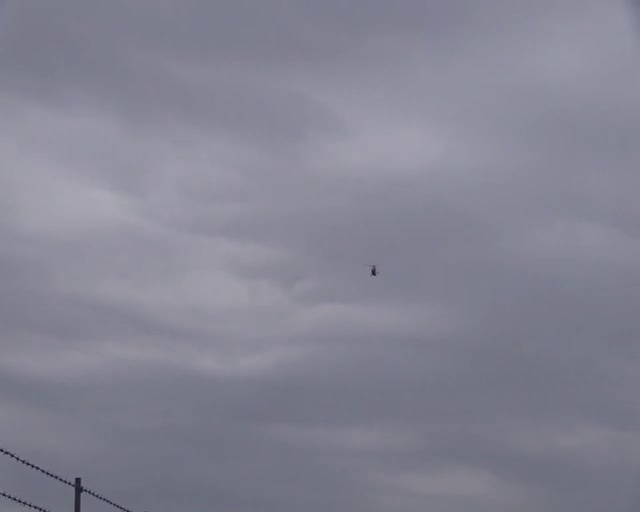HELICOPTER: (364, 263, 378, 276)
